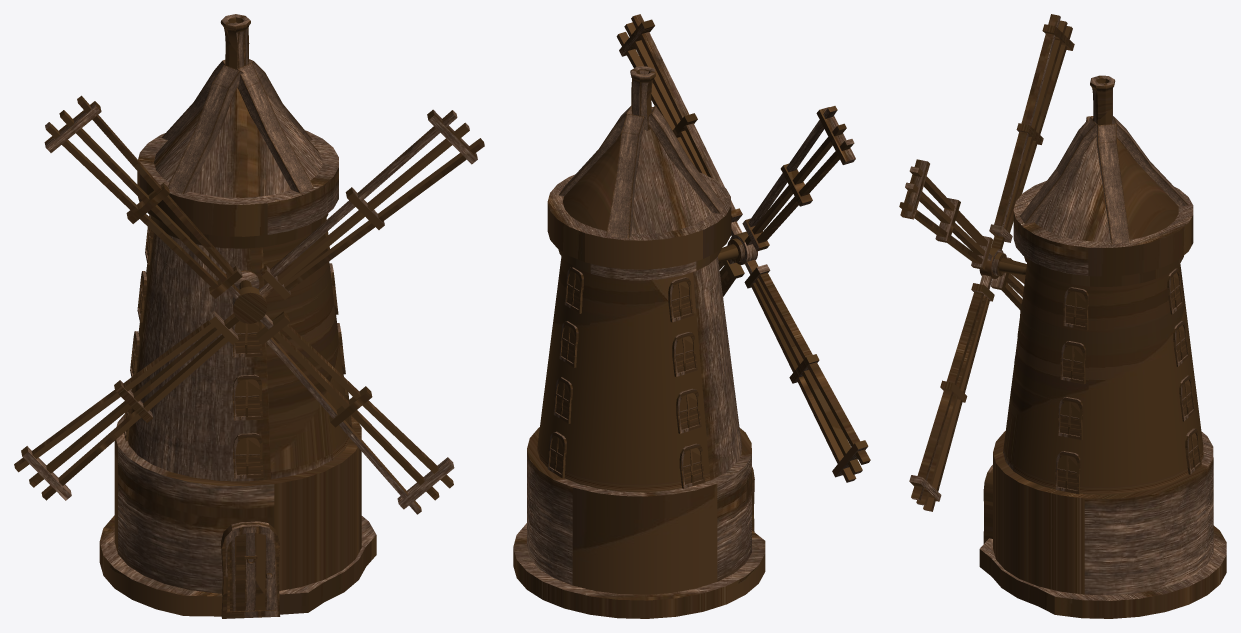
Rendered from mill.fbx.
3 views of the same model, side by side, from view 1: azimuth 30°, elevation 25°; view 2: azimuth 150°, elevation 25°; view 3: azimuth 270°, elevation 25° (orthographic). The views are drawn at different scales.
Parts seen in each view (by area): view 1: LOW.078; view 2: LOW.078; view 3: LOW.078.
Part boxes in pixels (x1,y1,x2,y2): LOW.078: [14, 14, 484, 618]; LOW.078: [513, 14, 870, 618]; LOW.078: [899, 14, 1226, 618].
Size of the model in its own units: 531 by 738 by 452.
